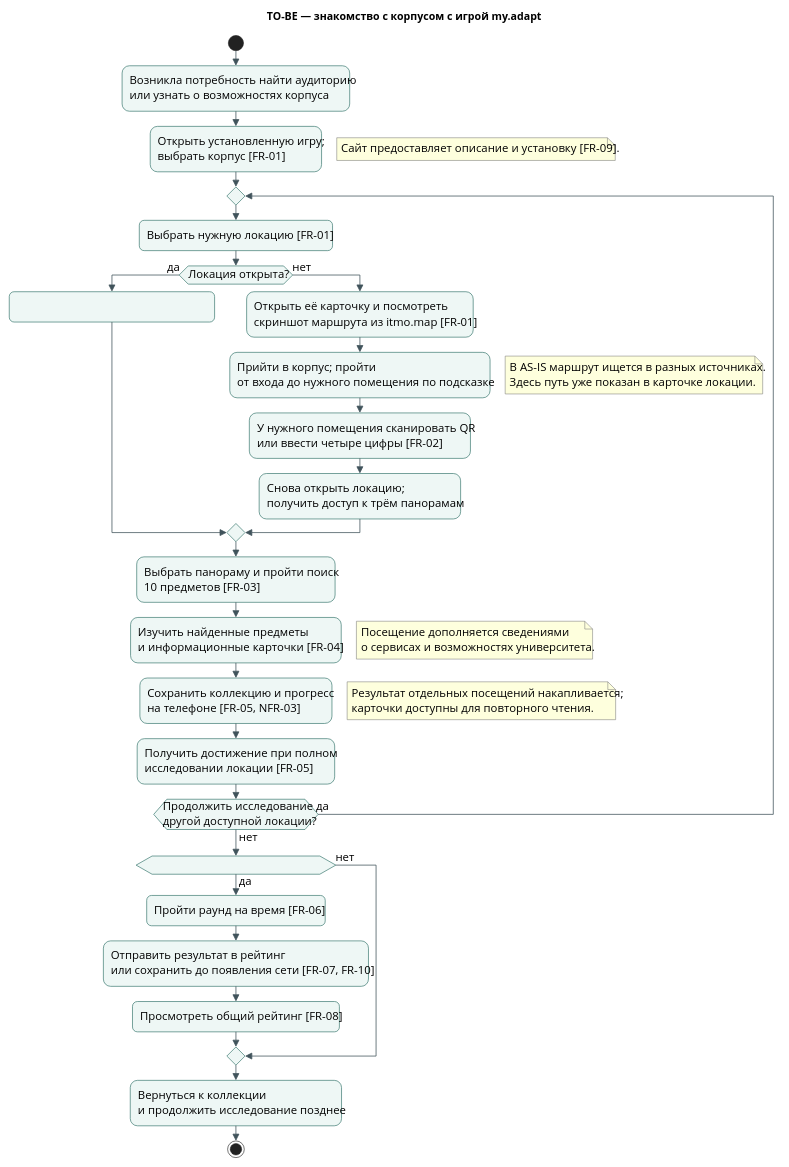
The diagram is 789 pixels wide and 1167 high, and some of its shapes have lost their labels. Here are the shapes that lost their labels. From the top down, the centre of each, then its label:
At [112,306]: "Открыть список доступных панорам".
At [236,864]: "Выбран соревновательный раунд?".
